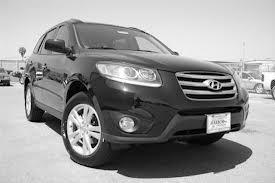car: (26, 20, 251, 163)
